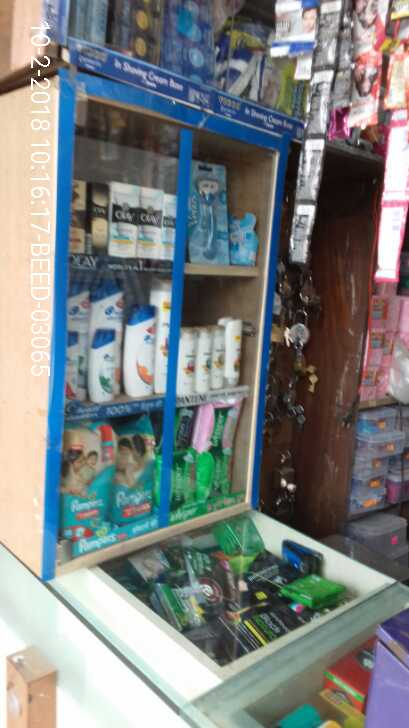venus: (189, 160, 227, 260), (227, 212, 260, 260)
